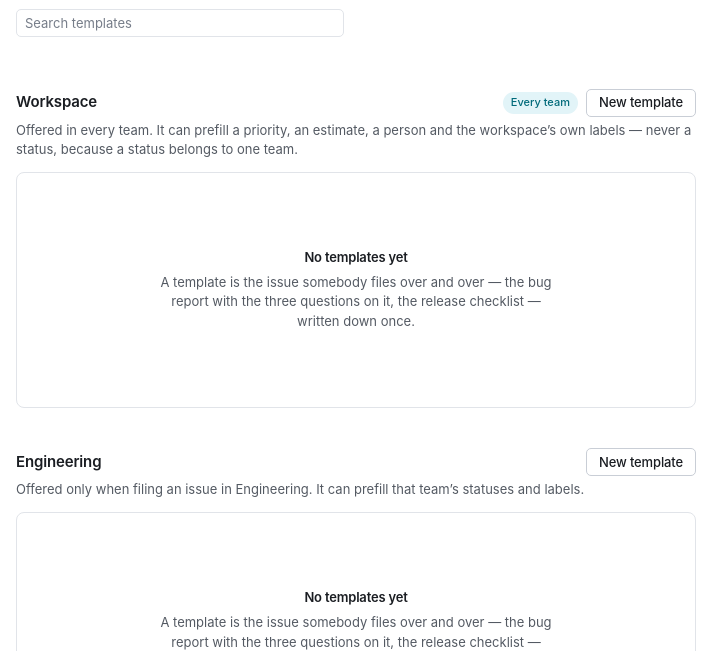
Templates · what each scope may prefill › offers a workspace template only the workspace’s labels, and a team template both
What coordinates should you click on to do the following:
click the button with aria-label "New template for Workspace"
I would click on:
 (641, 102)
Its box is top-left (586, 88), bottom-right (696, 116).
(page scrolled)
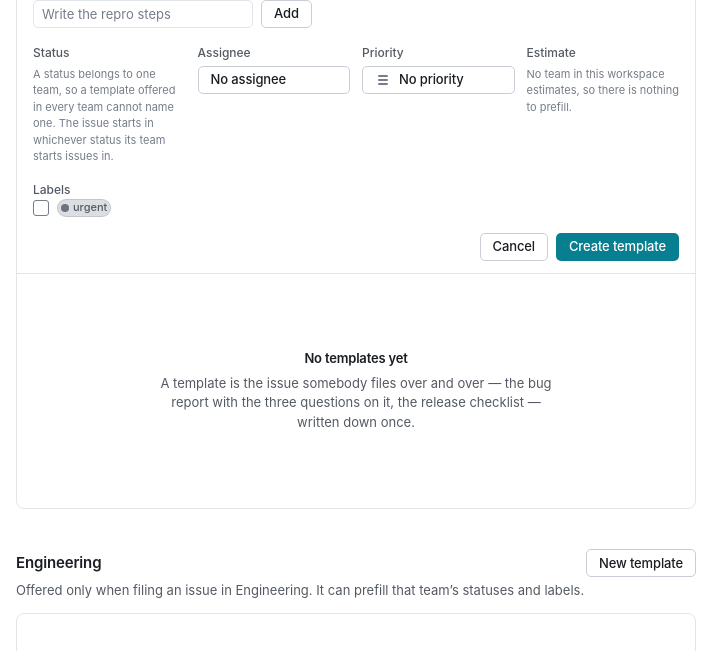
Expected: the checkbox labelled "backend" is not shown
Result: the checkbox labelled "urgent" is shown at top-left (33, 198), bottom-right (111, 216)
What coordinates should you click on to do the following:
click the button "Cancel"
I would click on:
 (514, 246)
Its box is top-left (480, 232), bottom-right (548, 260).
(page scrolled)
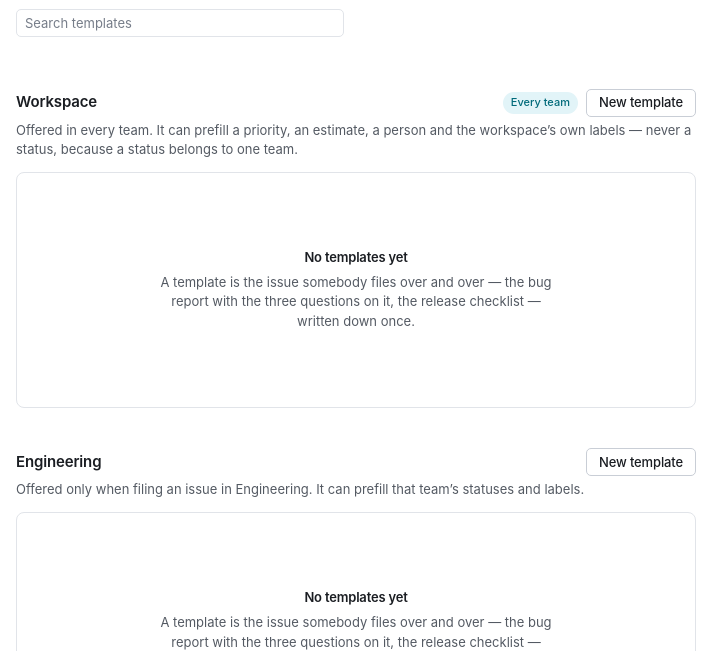
What coordinates should you click on to do the following:
click the button with aria-label "New template for Engineering"
I would click on:
 (641, 462)
Its box is top-left (586, 448), bottom-right (696, 476).
(page scrolled)
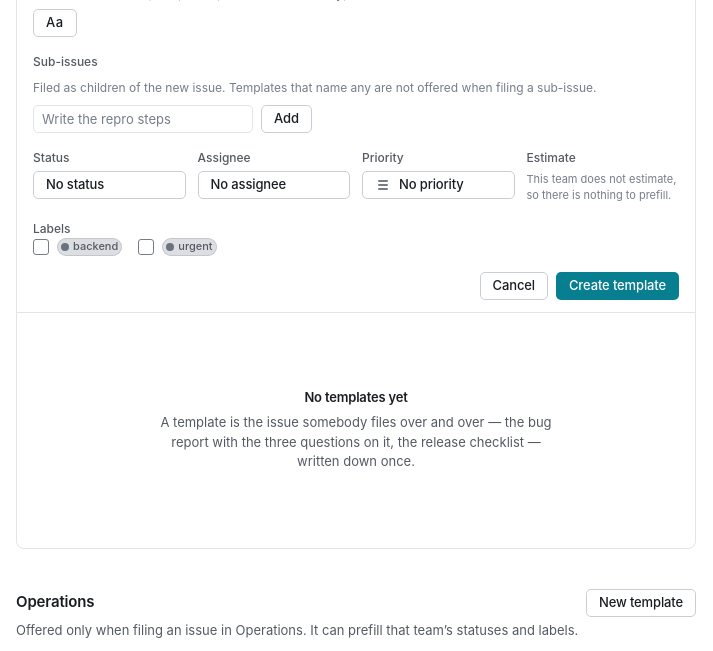
Result: the checkbox labelled "urgent" is shown at top-left (138, 238), bottom-right (217, 256)
Result: the checkbox labelled "backend" is shown at top-left (33, 238), bottom-right (122, 256)
